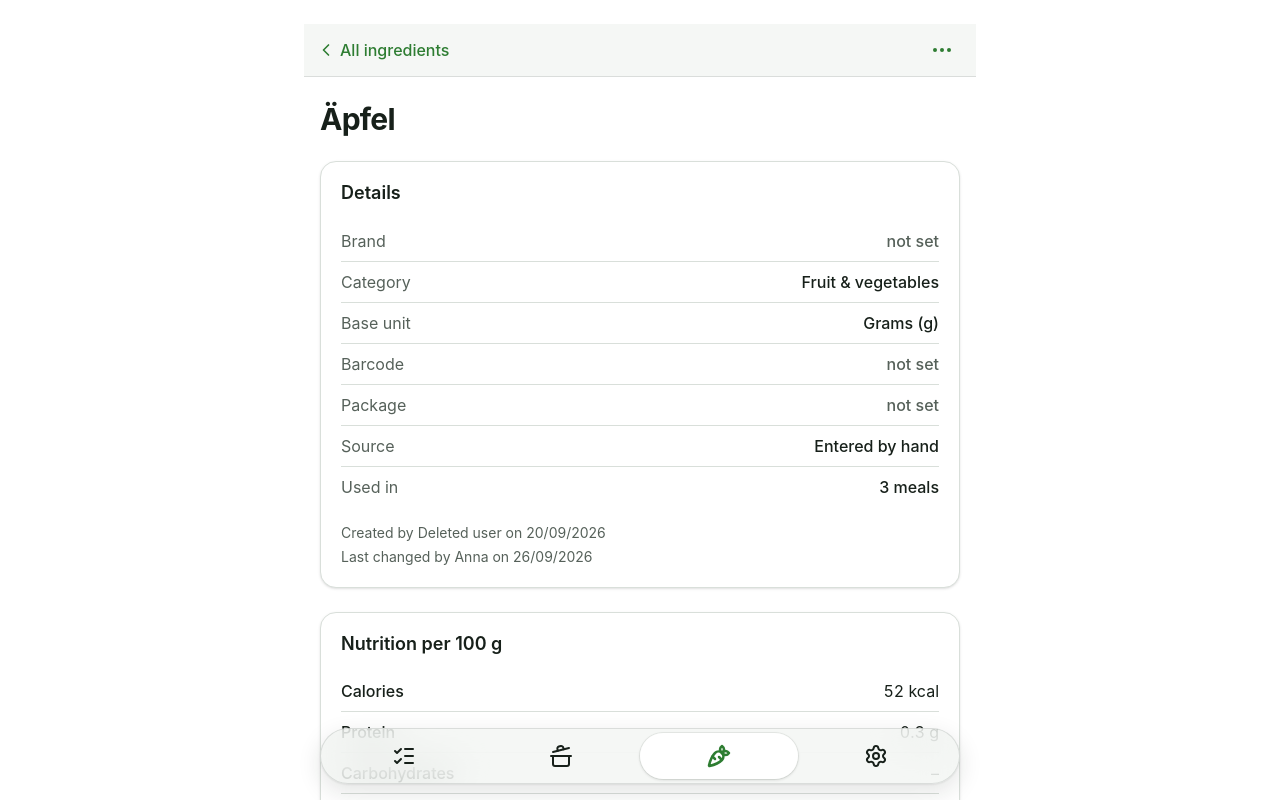
Test: IngredientDetailScreen › edits only what changed, including the base unit (ING-02)
Click the button with test id "more-actions" at (942, 50), box 920,28 -> 964,72
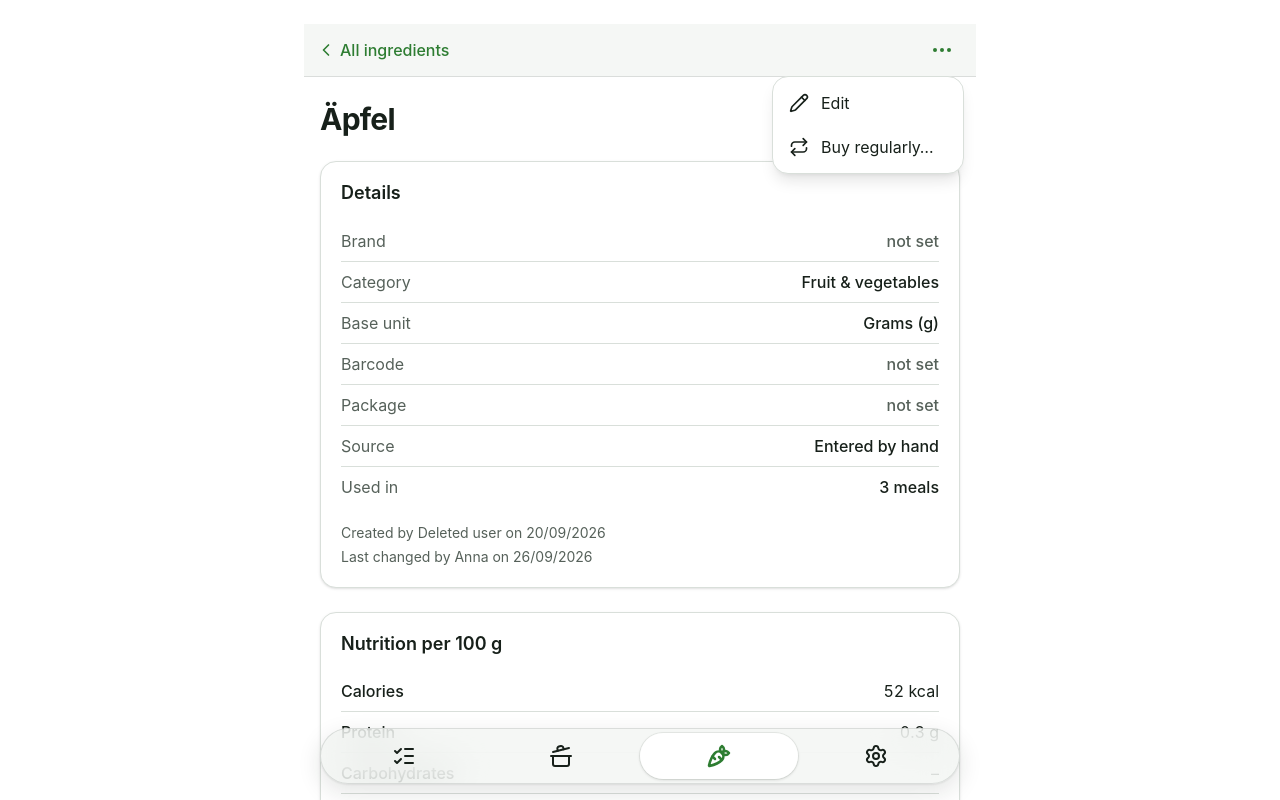
Click the menu item with test id "edit-ingredient" at (819, 103), box 789,93 -> 850,113
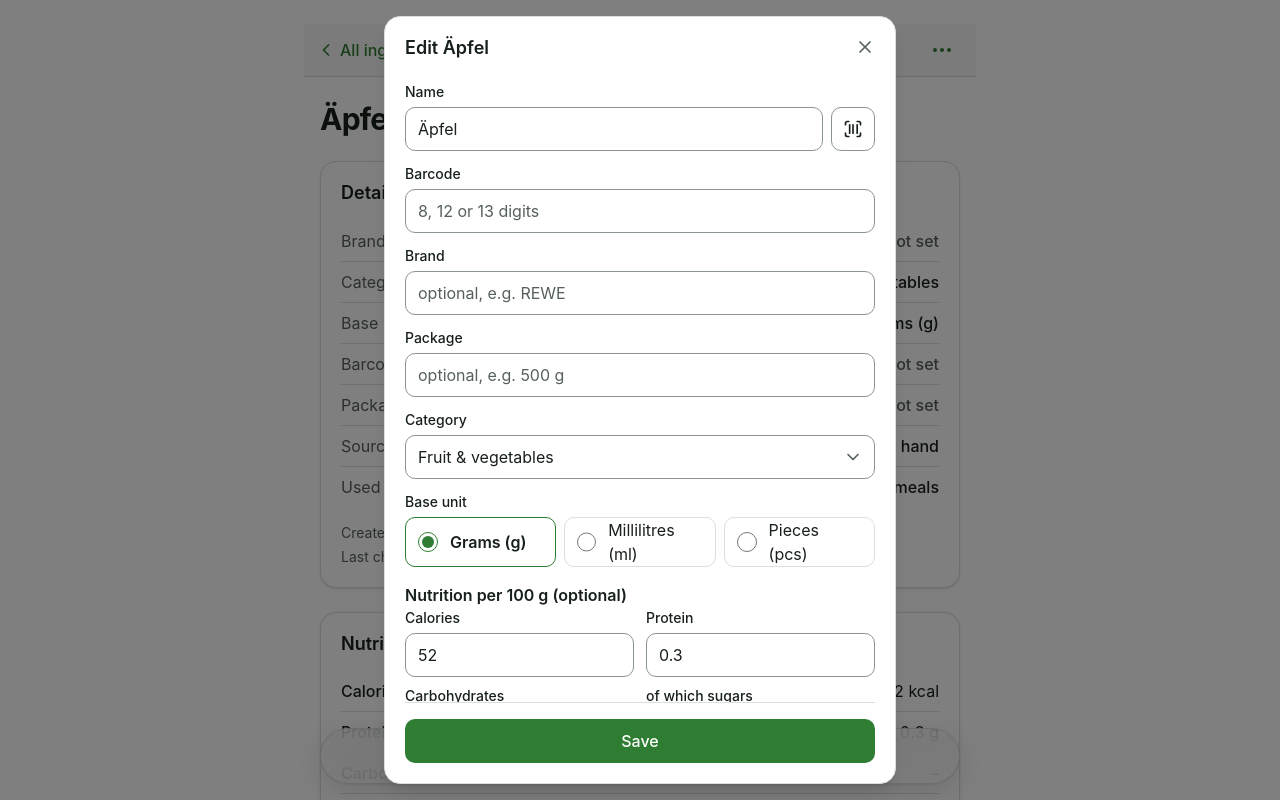
Click the radio button labelled "Millilitres (ml)" at (587, 542), box 577,532 -> 596,552
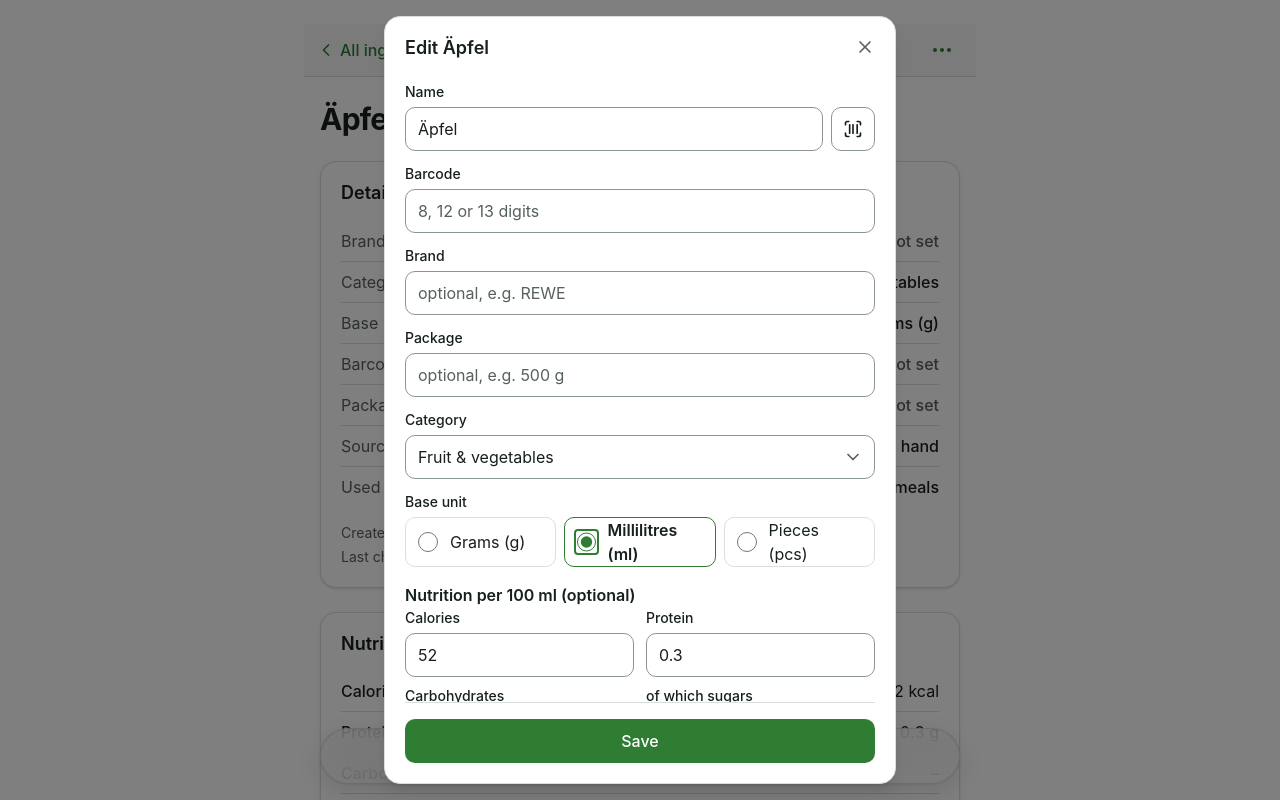
Type "Hofgut" into the field labelled "Brand" at (640, 293), box 405,271 -> 875,315
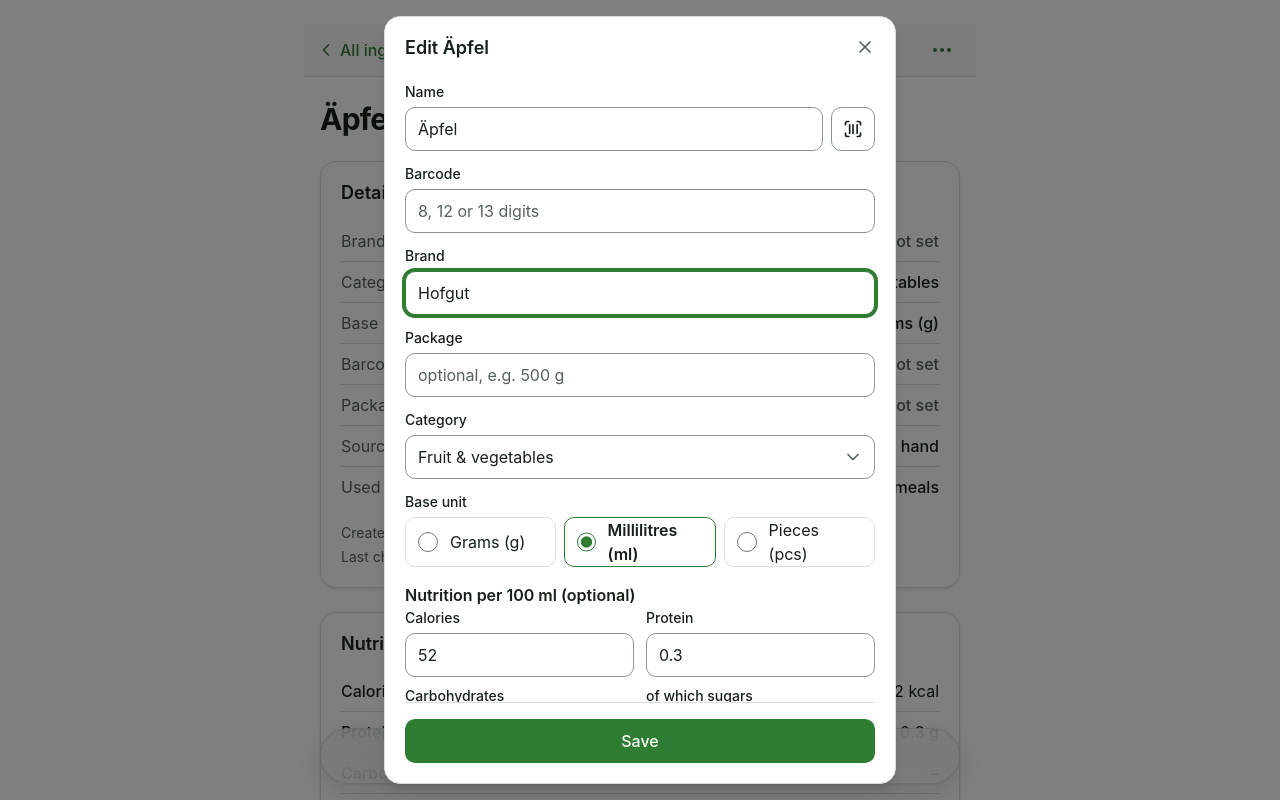
Check: the field labelled "Calories" holds "52"
Replace the text in the field labelled "Calories" with "55" at (520, 655), box 405,633 -> 634,677
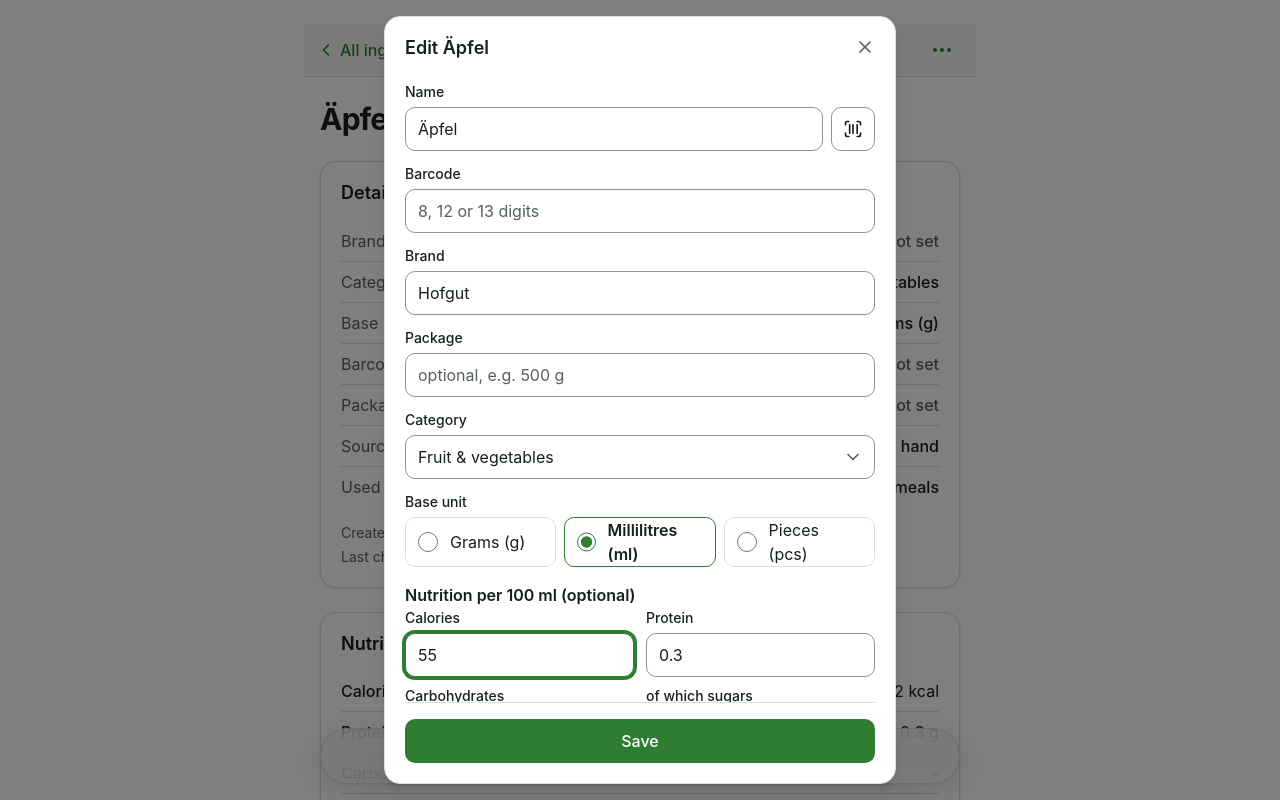
Click the button "Save" at (640, 741), box 405,719 -> 875,763
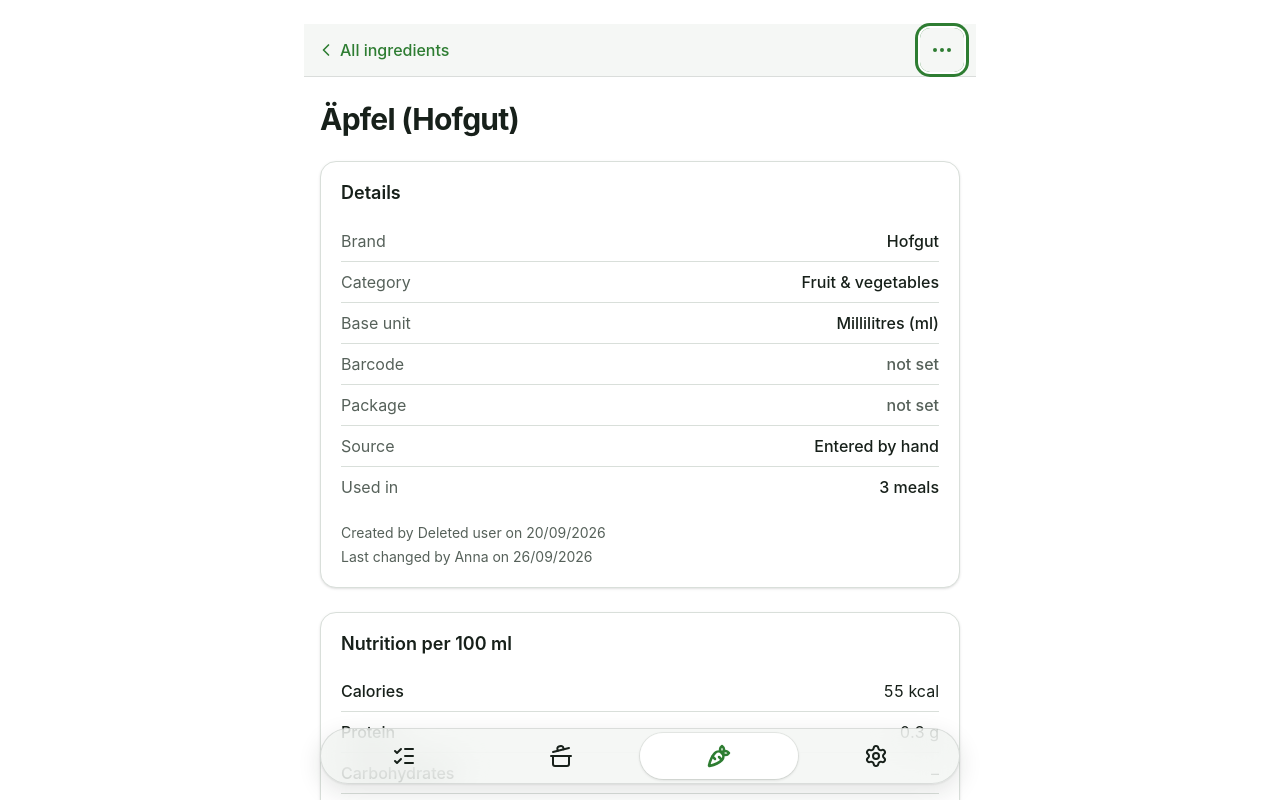
Check: the heading "Edit Äpfel" is gone
Check: the row "Calories" shows "55 kcal", box 883,681 -> 939,701
Check: the heading "Äpfel (Hofgut)" is shown, box 320,101 -> 519,137
